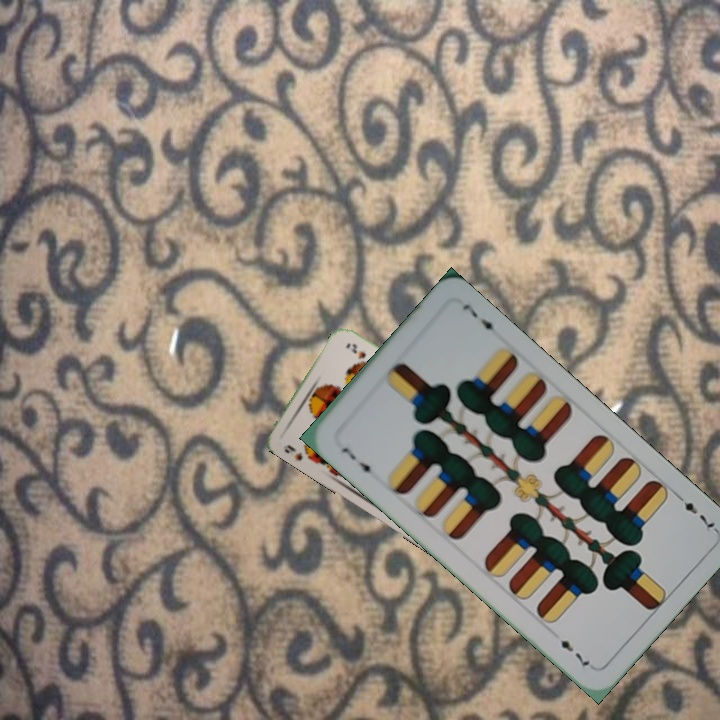E7: (671, 489, 719, 535), (337, 443, 376, 481)
S9: (279, 441, 315, 463)
